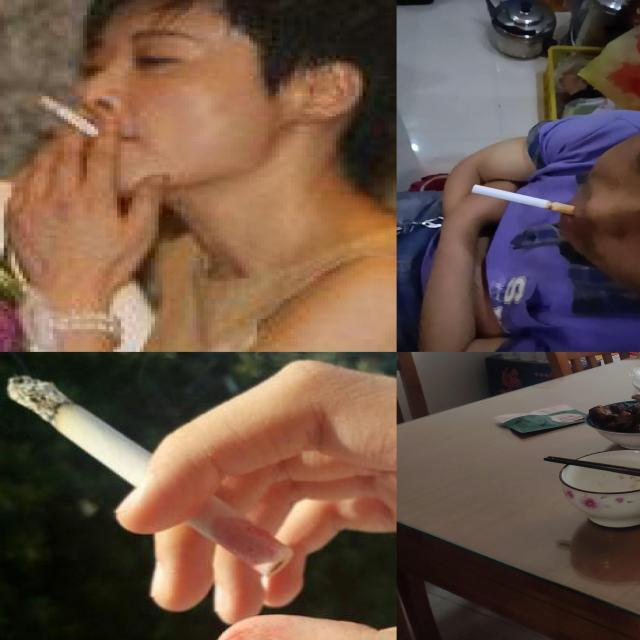smoke: (4, 373, 294, 575), (19, 81, 106, 142), (471, 183, 577, 216)
